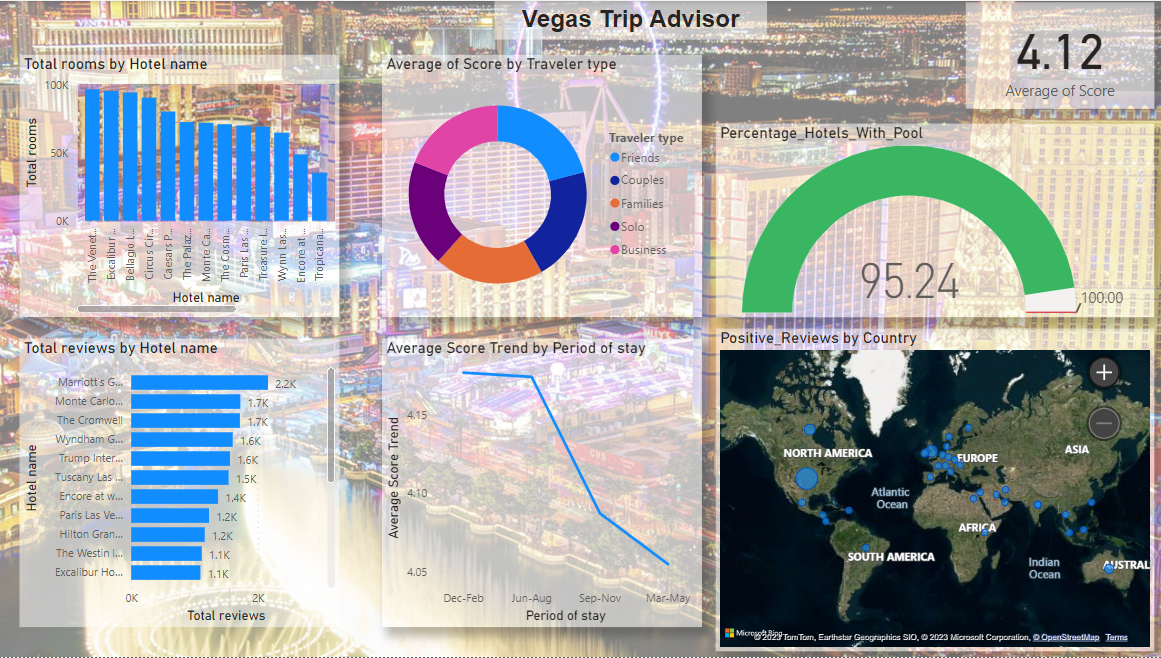

What the dashboard file says about the page in this screenshot:
{"tool":"powerbi","page":{"name":"Overall Dashboard","canvas":[1280,720],"ordinal":1},"visuals":[{"type":"card","fields":{"Values":["Avg(LasVegasTripAdvisorReviews-Data.Score)"]},"box":[1063.5,0,207.2,116.6],"z":0},{"type":"textbox","box":[546.1,0,299.1,42.5],"z":1000},{"type":"map","fields":{"Category":["LasVegasTripAdvisorReviews-Data.User country"],"Size":["LasVegasTripAdvisorReviews-Data.Positive_Reviews"]},"box":[789,359.5,481.6,354],"z":2000},{"type":"clusteredColumnChart","fields":{"Y":["Sum(LasVegasTripAdvisorReviews-Data.Nr. rooms)"],"Category":["LasVegasTripAdvisorReviews-Data.Hotel name"]},"box":[24.7,59,351.3,288.2],"z":3000},{"type":"barChart","fields":{"Y":["Sum(LasVegasTripAdvisorReviews-Data.Nr. reviews)"],"Category":["LasVegasTripAdvisorReviews-Data.Hotel name"]},"box":[24.7,370.5,351.3,317],"z":4000},{"type":"donutChart","fields":{"Category":["LasVegasTripAdvisorReviews-Data.Traveler type"],"Y":["Avg(LasVegasTripAdvisorReviews-Data.Score)"]},"box":[422.6,59,351.3,288.2],"z":5000},{"type":"clusteredColumnChart","fields":{"Category":["LasVegasTripAdvisorReviews-Data.User continent"],"Y":["Sum(LasVegasTripAdvisorReviews-Data.Member years)"]},"box":[422.6,370.5,351.3,317],"z":6000},{"type":"gauge","fields":{"Y":["LasVegasTripAdvisorReviews-Data.Safety Confidence Rate"]},"box":[789,134.5,481.6,212.7],"z":7000},{"type":"actionButton","box":[0,0,100,40],"z":8000},{"type":"actionButton","box":[1226.8,0,43.9,39.8],"z":9000}]}

Visuals, with their boxes in screenshot pixels (x1, y1, x2, y2), scaled from the page's 1280x720 canvas onto the 1161x658 screenshot:
card - Avg(LasVegasTripAdvisorReviews-Data.Score): detection(965, 0, 1153, 107)
textbox: detection(495, 0, 767, 39)
map - LasVegasTripAdvisorReviews-Data.User country x LasVegasTripAdvisorReviews-Data.Positive_Reviews: detection(716, 329, 1152, 652)
clusteredColumnChart - Sum(LasVegasTripAdvisorReviews-Data.Nr. rooms) x LasVegasTripAdvisorReviews-Data.Hotel name: detection(22, 54, 341, 317)
barChart - Sum(LasVegasTripAdvisorReviews-Data.Nr. reviews) x LasVegasTripAdvisorReviews-Data.Hotel name: detection(22, 339, 341, 628)
donutChart - LasVegasTripAdvisorReviews-Data.Traveler type x Avg(LasVegasTripAdvisorReviews-Data.Score): detection(383, 54, 702, 317)
clusteredColumnChart - LasVegasTripAdvisorReviews-Data.User continent x Sum(LasVegasTripAdvisorReviews-Data.Member years): detection(383, 339, 702, 628)
gauge - LasVegasTripAdvisorReviews-Data.Safety Confidence Rate: detection(716, 123, 1152, 317)
actionButton: detection(0, 0, 91, 37)
actionButton: detection(1113, 0, 1153, 36)
